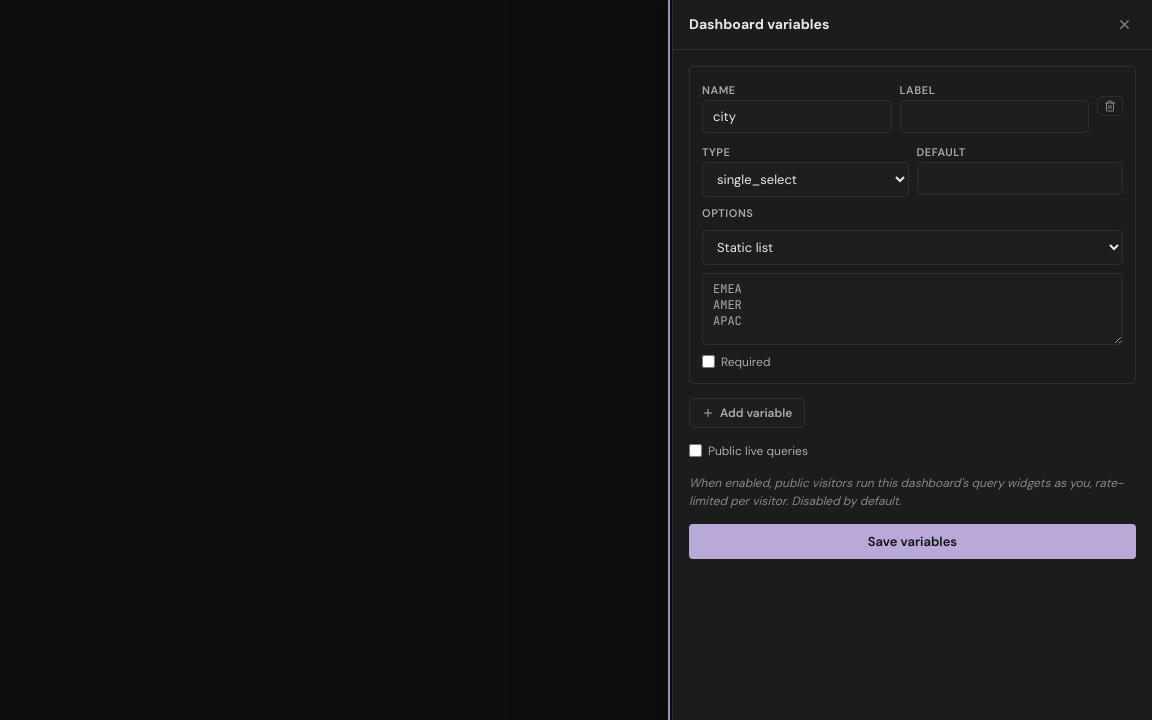
Test case: DashboardVariablesPanel › requires connector and SQL for query-backed options
The image size is (1152, 720).
Select "Query" in the dropdown named "Options mode". click: [912, 247]
box: [702,230,1123,264]
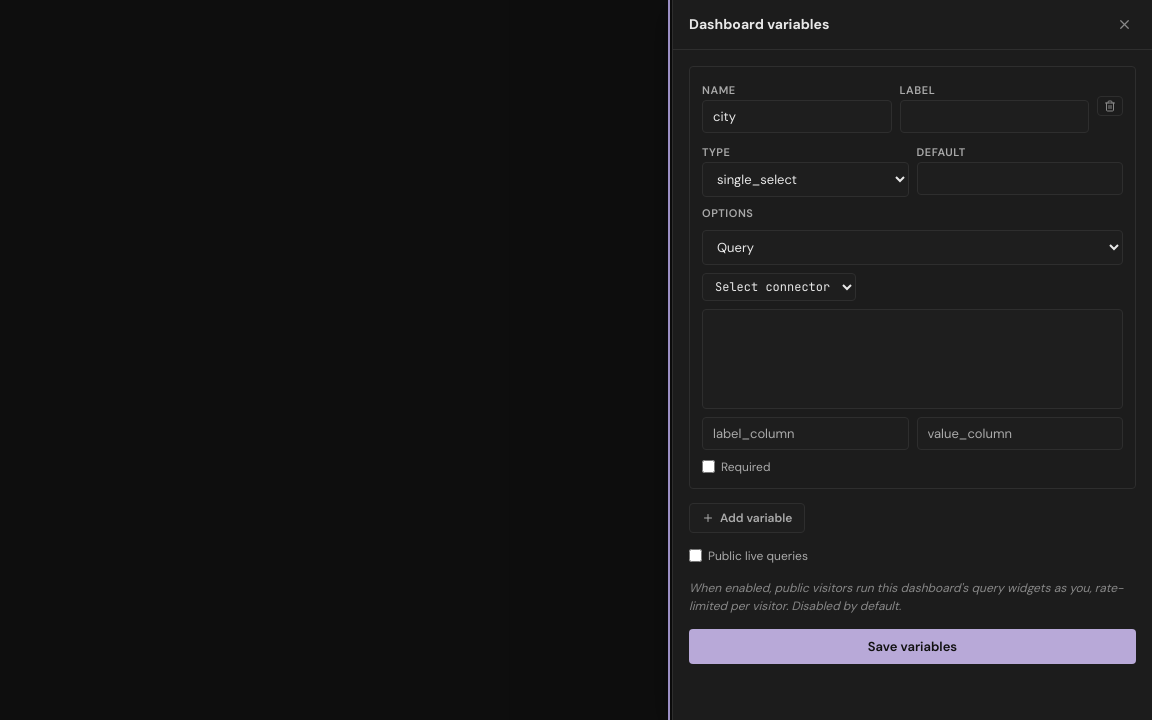
Click the button "Save variables". click: [912, 646]
box: [689,628,1136,664]
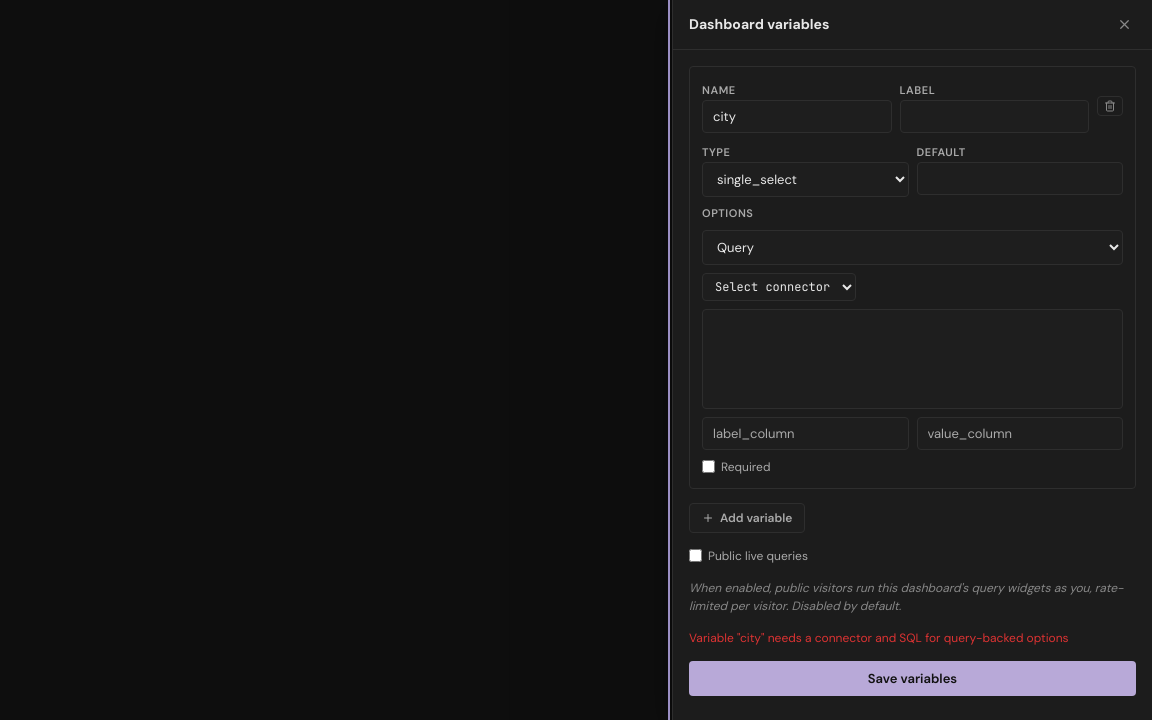
Expected: the message shows "needs a connector and SQL", [689,630,1069,646]
